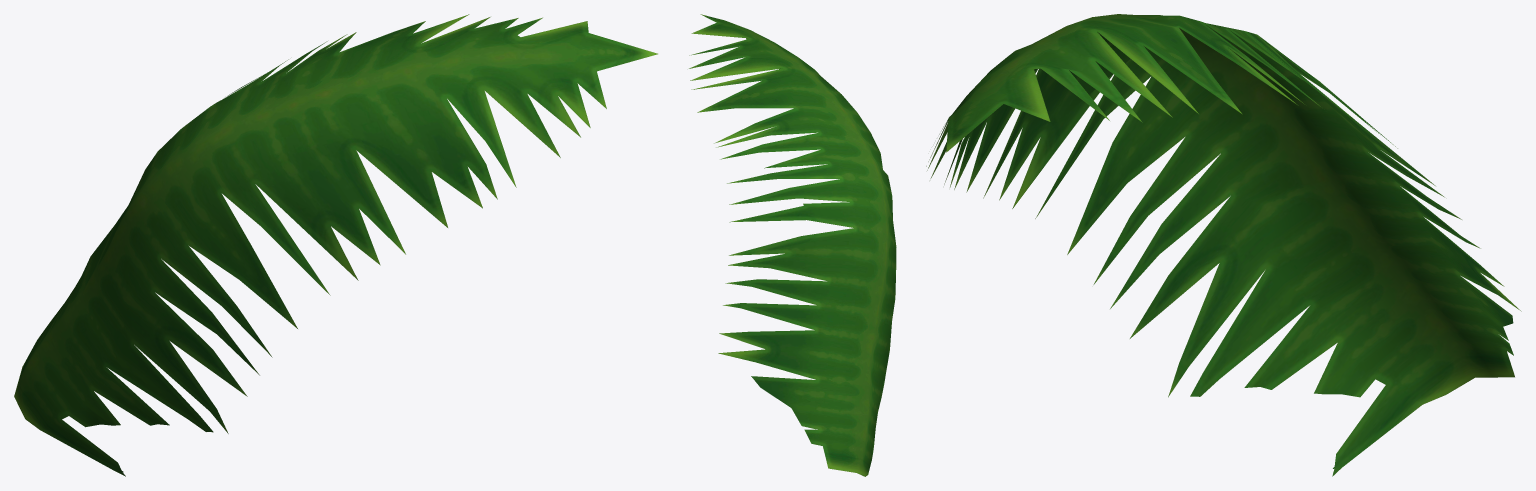
The model's file is palm_leaves_palm_leaves_0_0011.obj.
The picture shows the model from 3 angles, left to right: view 1: azimuth 30°, elevation 25°; view 2: azimuth 150°, elevation 25°; view 3: azimuth 270°, elevation 25°; orthographic projection. The views are drawn at different scales.
Parts seen in each view (by area): view 1: palm_leaves_palm_leaves_0.011; view 2: palm_leaves_palm_leaves_0.011; view 3: palm_leaves_palm_leaves_0.011.
Boxes of the visible parts, bbox=[...] form: palm_leaves_palm_leaves_0.011: bbox=[14, 14, 657, 476]; palm_leaves_palm_leaves_0.011: bbox=[689, 14, 896, 476]; palm_leaves_palm_leaves_0.011: bbox=[926, 14, 1521, 476].
Size of the model in its own units: 18.82 by 19.04 by 17.86.
